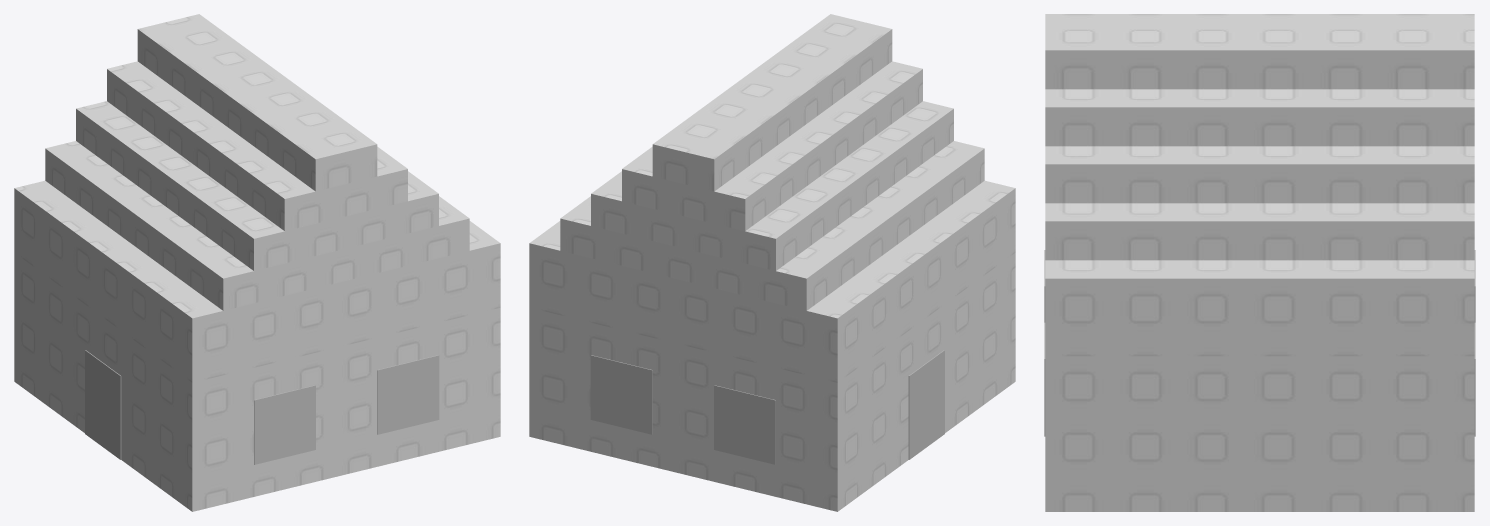
File: 1FloorHouseA.FBX
3 views of the same model, side by side, from view 1: azimuth 30°, elevation 25°; view 2: azimuth 150°, elevation 25°; view 3: azimuth 270°, elevation 25° (orthographic). The views are drawn at different scales.
Parts seen in each view (by area): view 1: wuding, qiang, chuang, men; view 2: wuding, qiang, chuang, men; view 3: wuding, qiang, chuang.
Boxes of the visible parts, box(x1,y1,x2,y2) form: wuding: box(14, 14, 500, 382); qiang: box(14, 253, 500, 511); chuang: box(254, 355, 439, 464); men: box(85, 350, 121, 459); wuding: box(529, 14, 1015, 382); qiang: box(529, 253, 1015, 511); chuang: box(590, 355, 775, 464); men: box(908, 350, 944, 459); wuding: box(1045, 14, 1474, 356); qiang: box(1045, 356, 1474, 511); chuang: box(1044, 250, 1475, 436).
Size of the model in its own units: 6.44 by 6.43 by 6.46.
